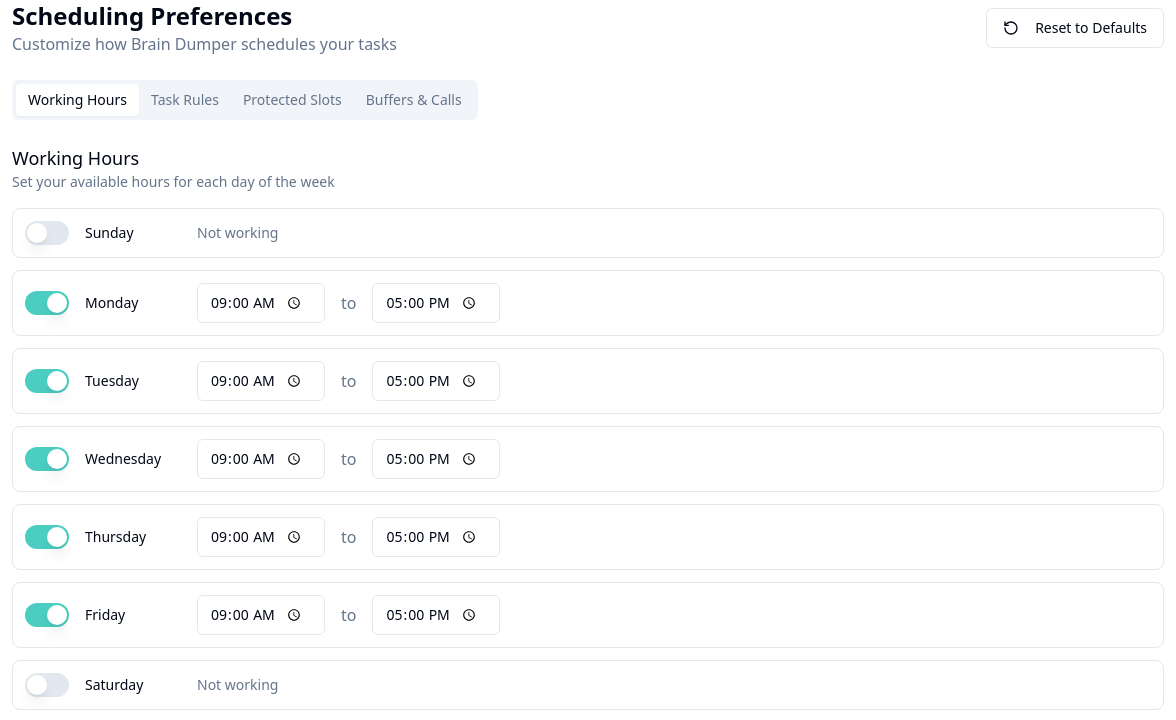
Test: SchedulingPreferences › working hours interactions › shows save button when working hours are modified
# Toggle Sunday
Click the switch named "Toggle Sunday" at (47, 233), box 25,221 -> 69,245
(page scrolled)
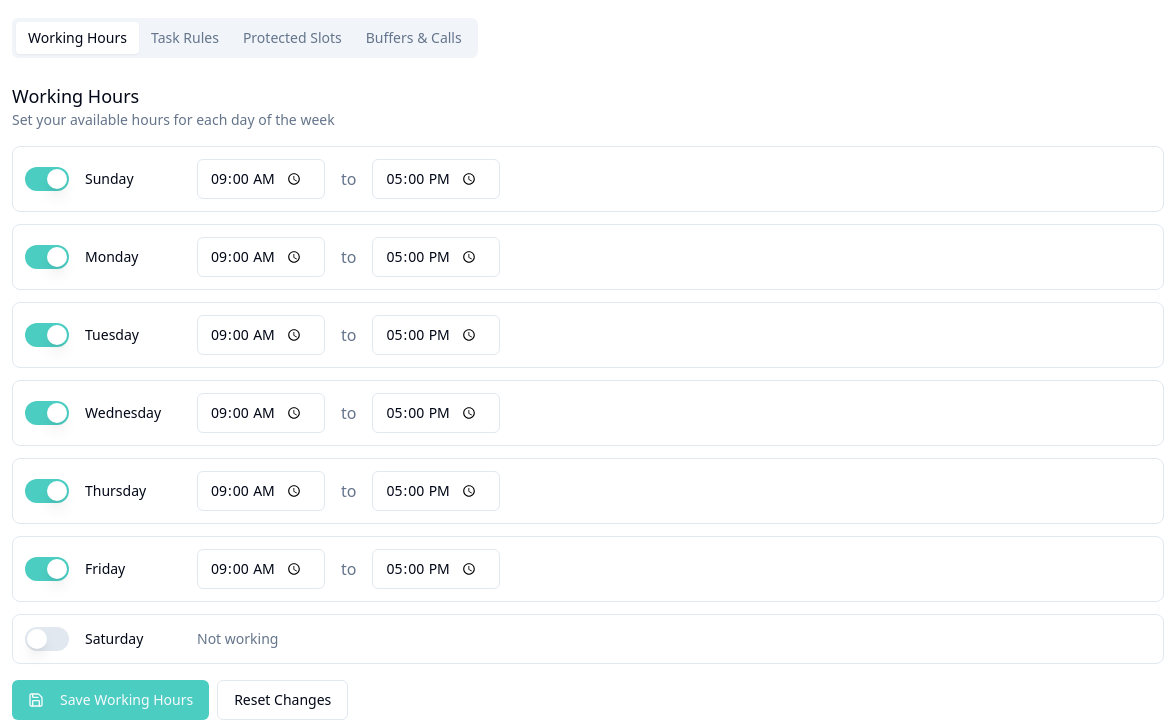
Result: the button with test id "save-working-hours" is shown at 12,680 -> 209,719
